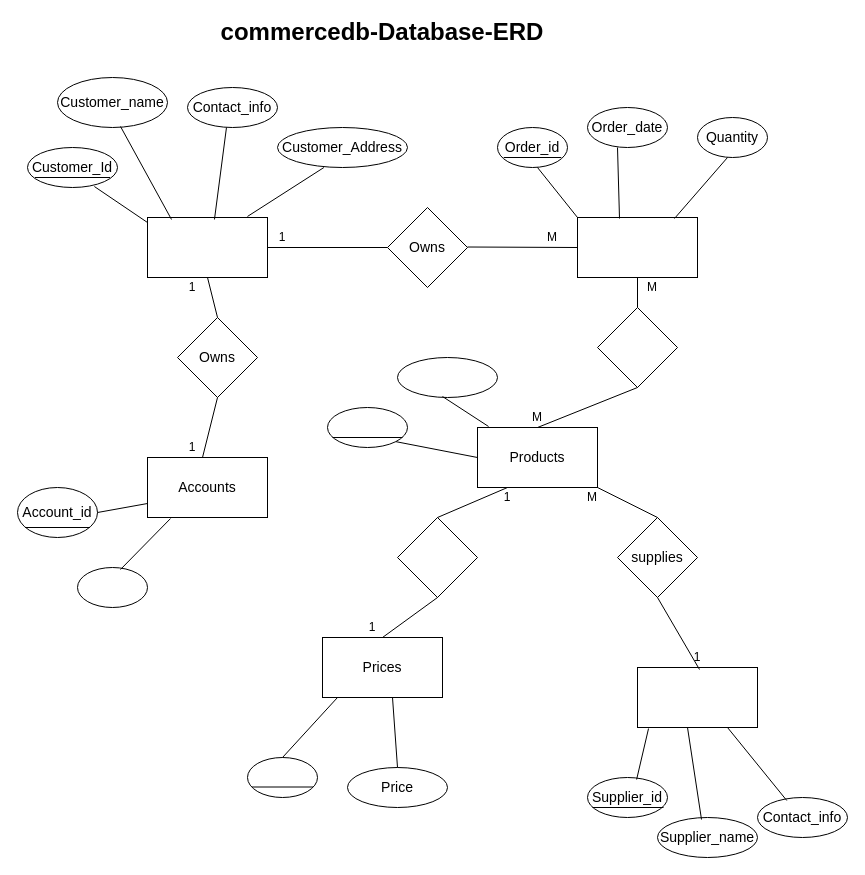
This 865x875 diagram has some shape labels left out. Each missing label, with the centre of its shape:
"Balance" goes at pixel 112 587.
"Customers" goes at pixel 207 247.
"has-one" goes at pixel 437 557.
"have" goes at pixel 637 347.
"Orders" goes at pixel 637 247.
"Price_id" goes at pixel 282 777.
"Product_id" goes at pixel 367 427.
"Product_name" goes at pixel 447 377.
"Suppliers" goes at pixel 697 697.
